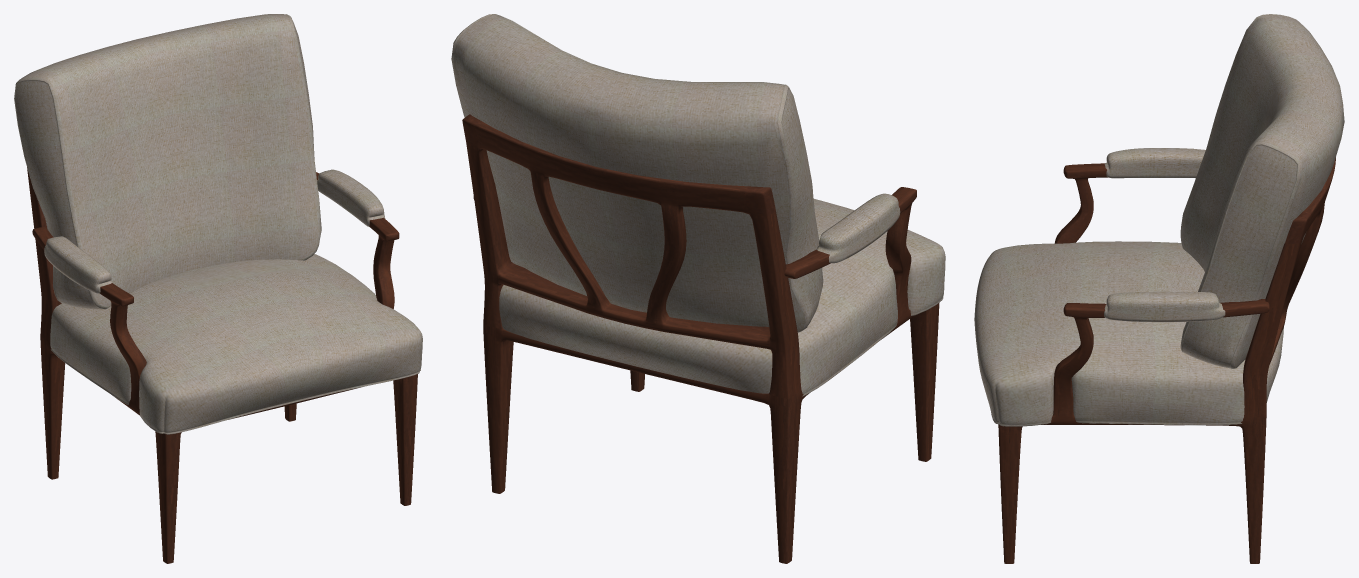
Rendered from home-chair4.glb.
3 views of the same model, side by side, from view 1: azimuth 30°, elevation 25°; view 2: azimuth 150°, elevation 25°; view 3: azimuth 270°, elevation 25° (orthographic). The views are drawn at different scales.
Visible parts, largest first — view 1: Cushion Chair_0; view 2: Cushion Chair_0; view 3: Cushion Chair_0.
Part boxes in pixels (x1,y1,x2,y2): Cushion Chair_0: [14, 14, 422, 563]; Cushion Chair_0: [451, 14, 945, 563]; Cushion Chair_0: [974, 14, 1344, 563].
Bounding box in the file's own units: 0.7582 × 0.9625 × 0.7636.
Materials: 1 (1 with a texture image).
